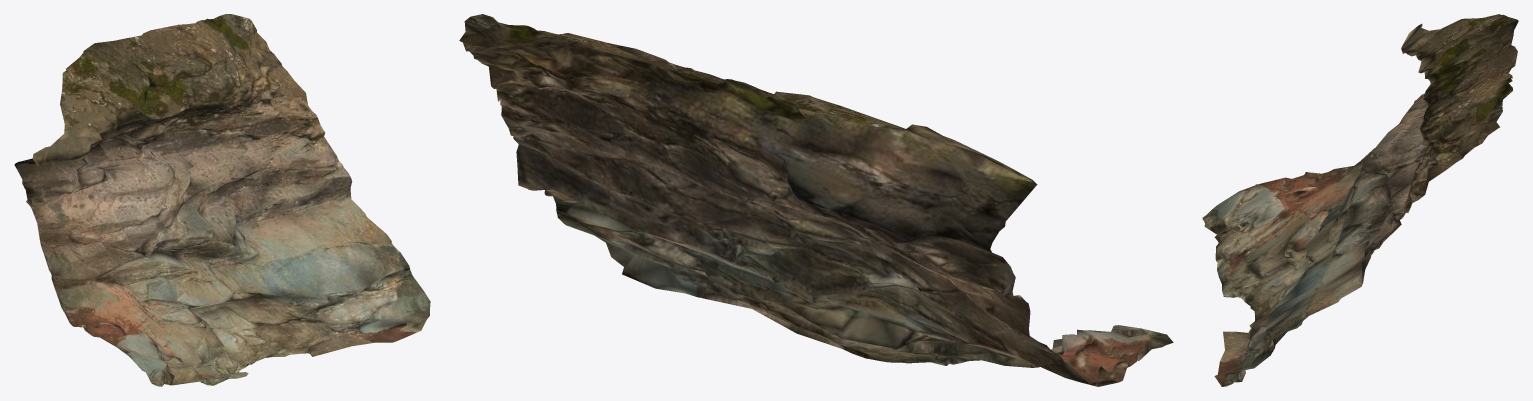
File: rock_face_01.glb
3 renders of one model, left to right at view 1: azimuth 30°, elevation 25°; view 2: azimuth 150°, elevation 25°; view 3: azimuth 270°, elevation 25°, orthographic. The views are drawn at different scales.
Visible parts, largest first — view 1: rock_face_01; view 2: rock_face_01; view 3: rock_face_01.
Part boxes in pixels (box(x1,y1,x2,y2)): rock_face_01: box(14, 14, 430, 386); rock_face_01: box(459, 14, 1173, 386); rock_face_01: box(1202, 14, 1518, 386).
Bounding box in the file's own units: 4.94 × 3.56 × 3.82.
Materials: 1 (1 with a texture image).
